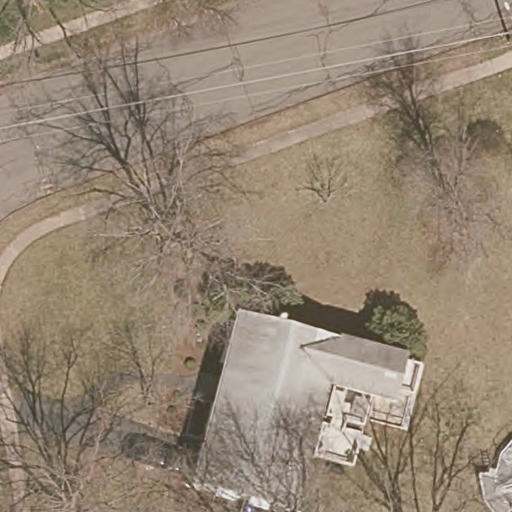DT: (500, 1, 512, 45)
